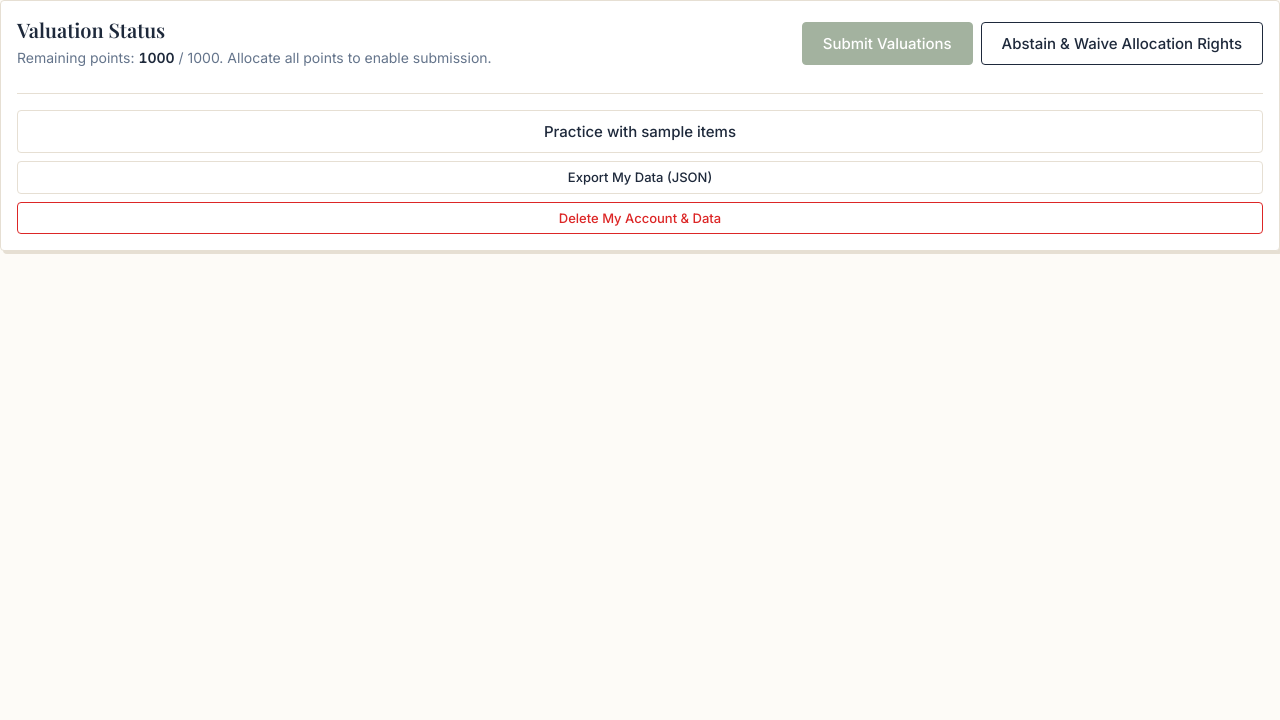
Test: Abstention and Valuation UI Components › HeirValuationPanel › opens AbstentionWaiverModal when abstain is clicked
Click the button with test id "abstain-trigger-btn": (1122, 43) top-left (981, 22), bottom-right (1263, 65)
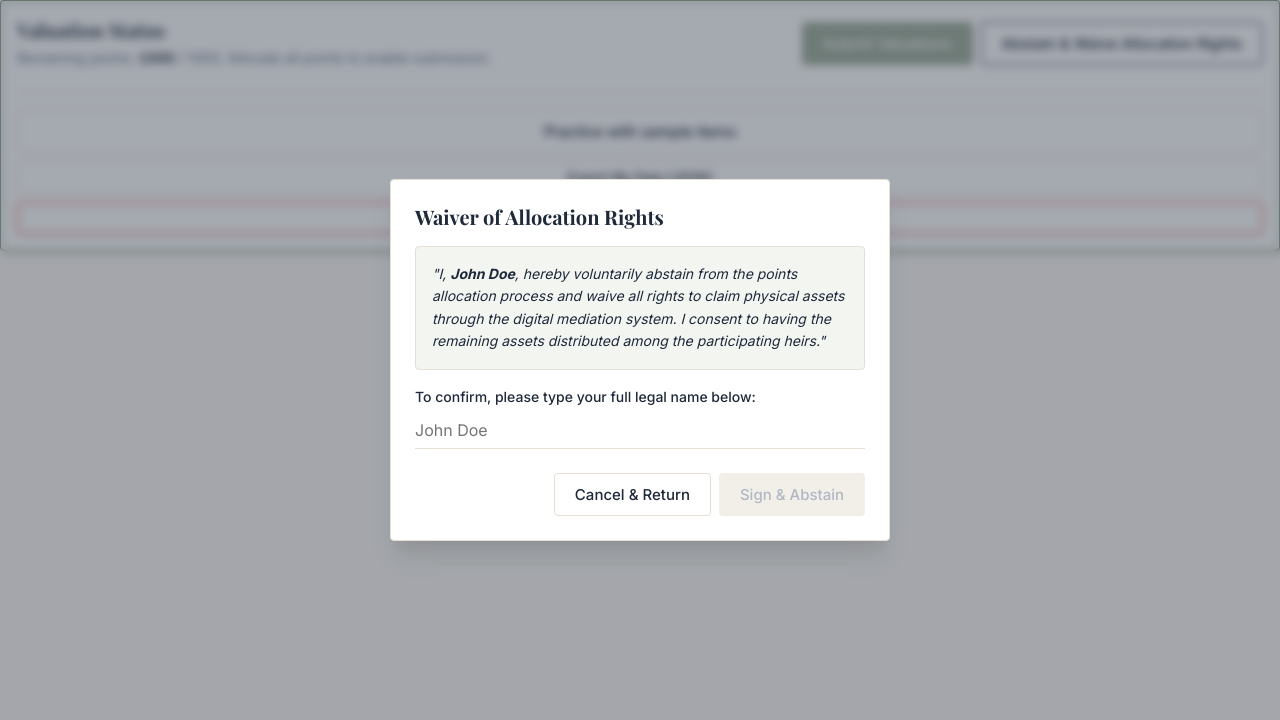
Check: the element with test id "abstention-modal-backdrop" is shown
